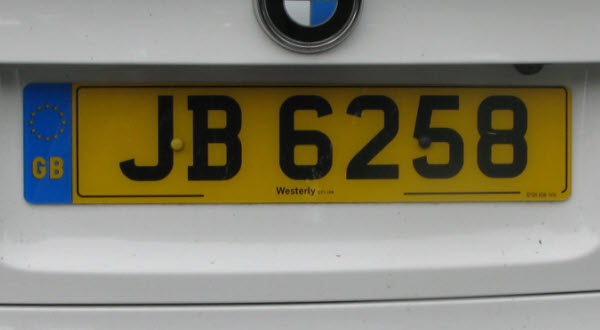license_plate: (22, 81, 574, 203)
